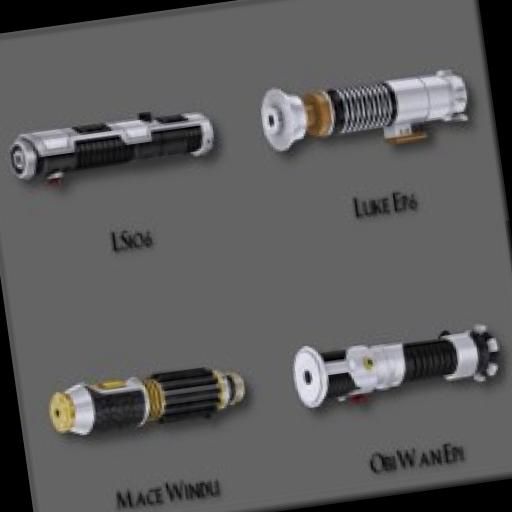lightsaber: (0, 91, 231, 210), (278, 314, 512, 420), (256, 58, 480, 166), (41, 358, 252, 452)
